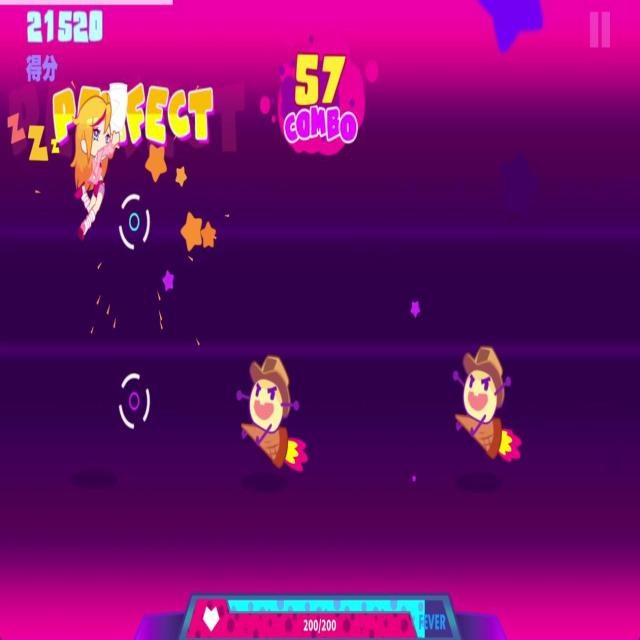qiu: (232, 347, 313, 481), (448, 338, 524, 472)
